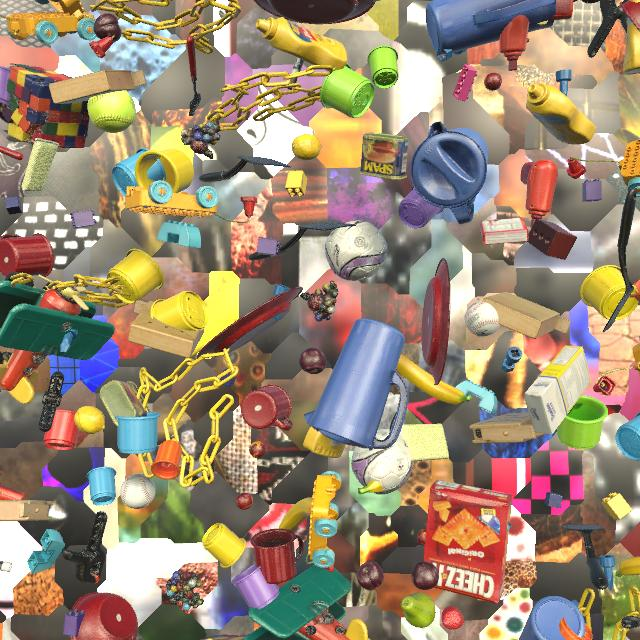ycb_003_cracker_box: (423, 480, 513, 604)
ycb_004_sugar_box: (524, 345, 591, 435)
ycb_006_mustard_bottle: (256, 17, 347, 71), (526, 83, 596, 145), (303, 426, 346, 458), (623, 0, 640, 75), (206, 638, 213, 640)
ycb_007_tuna_fish_can: (477, 515, 512, 535)
ycb_009_gelatin_box: (480, 217, 529, 245)
ycb_010_potted_meat_can: (100, 380, 151, 427), (359, 133, 409, 180)
ycb_011_banana: (396, 354, 472, 404), (279, 497, 313, 531), (615, 556, 640, 577), (358, 481, 383, 495)
ycb_012_strawberry: (441, 606, 464, 630)
ycb_014_lemon: (74, 406, 105, 434), (292, 134, 322, 160), (468, 558, 471, 561)
ycb_016_pear: (401, 593, 436, 628)
ycb_018_plum: (93, 13, 122, 43), (411, 561, 439, 590), (357, 562, 384, 590), (299, 347, 326, 374)
